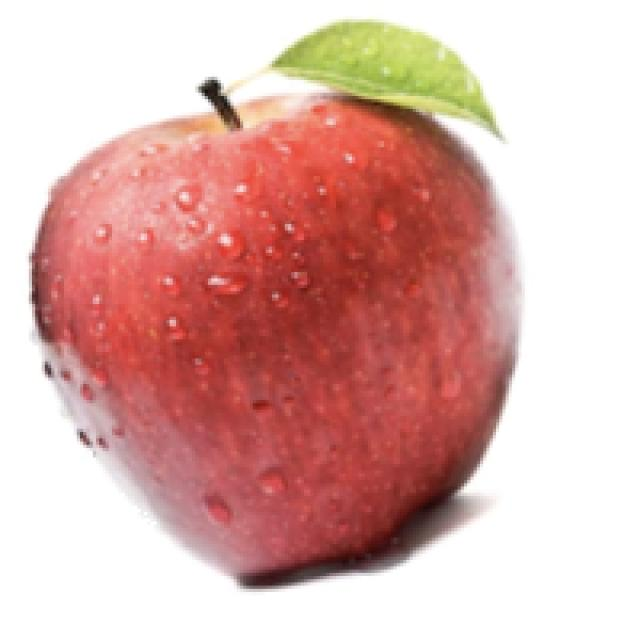apple: (22, 13, 525, 595)
